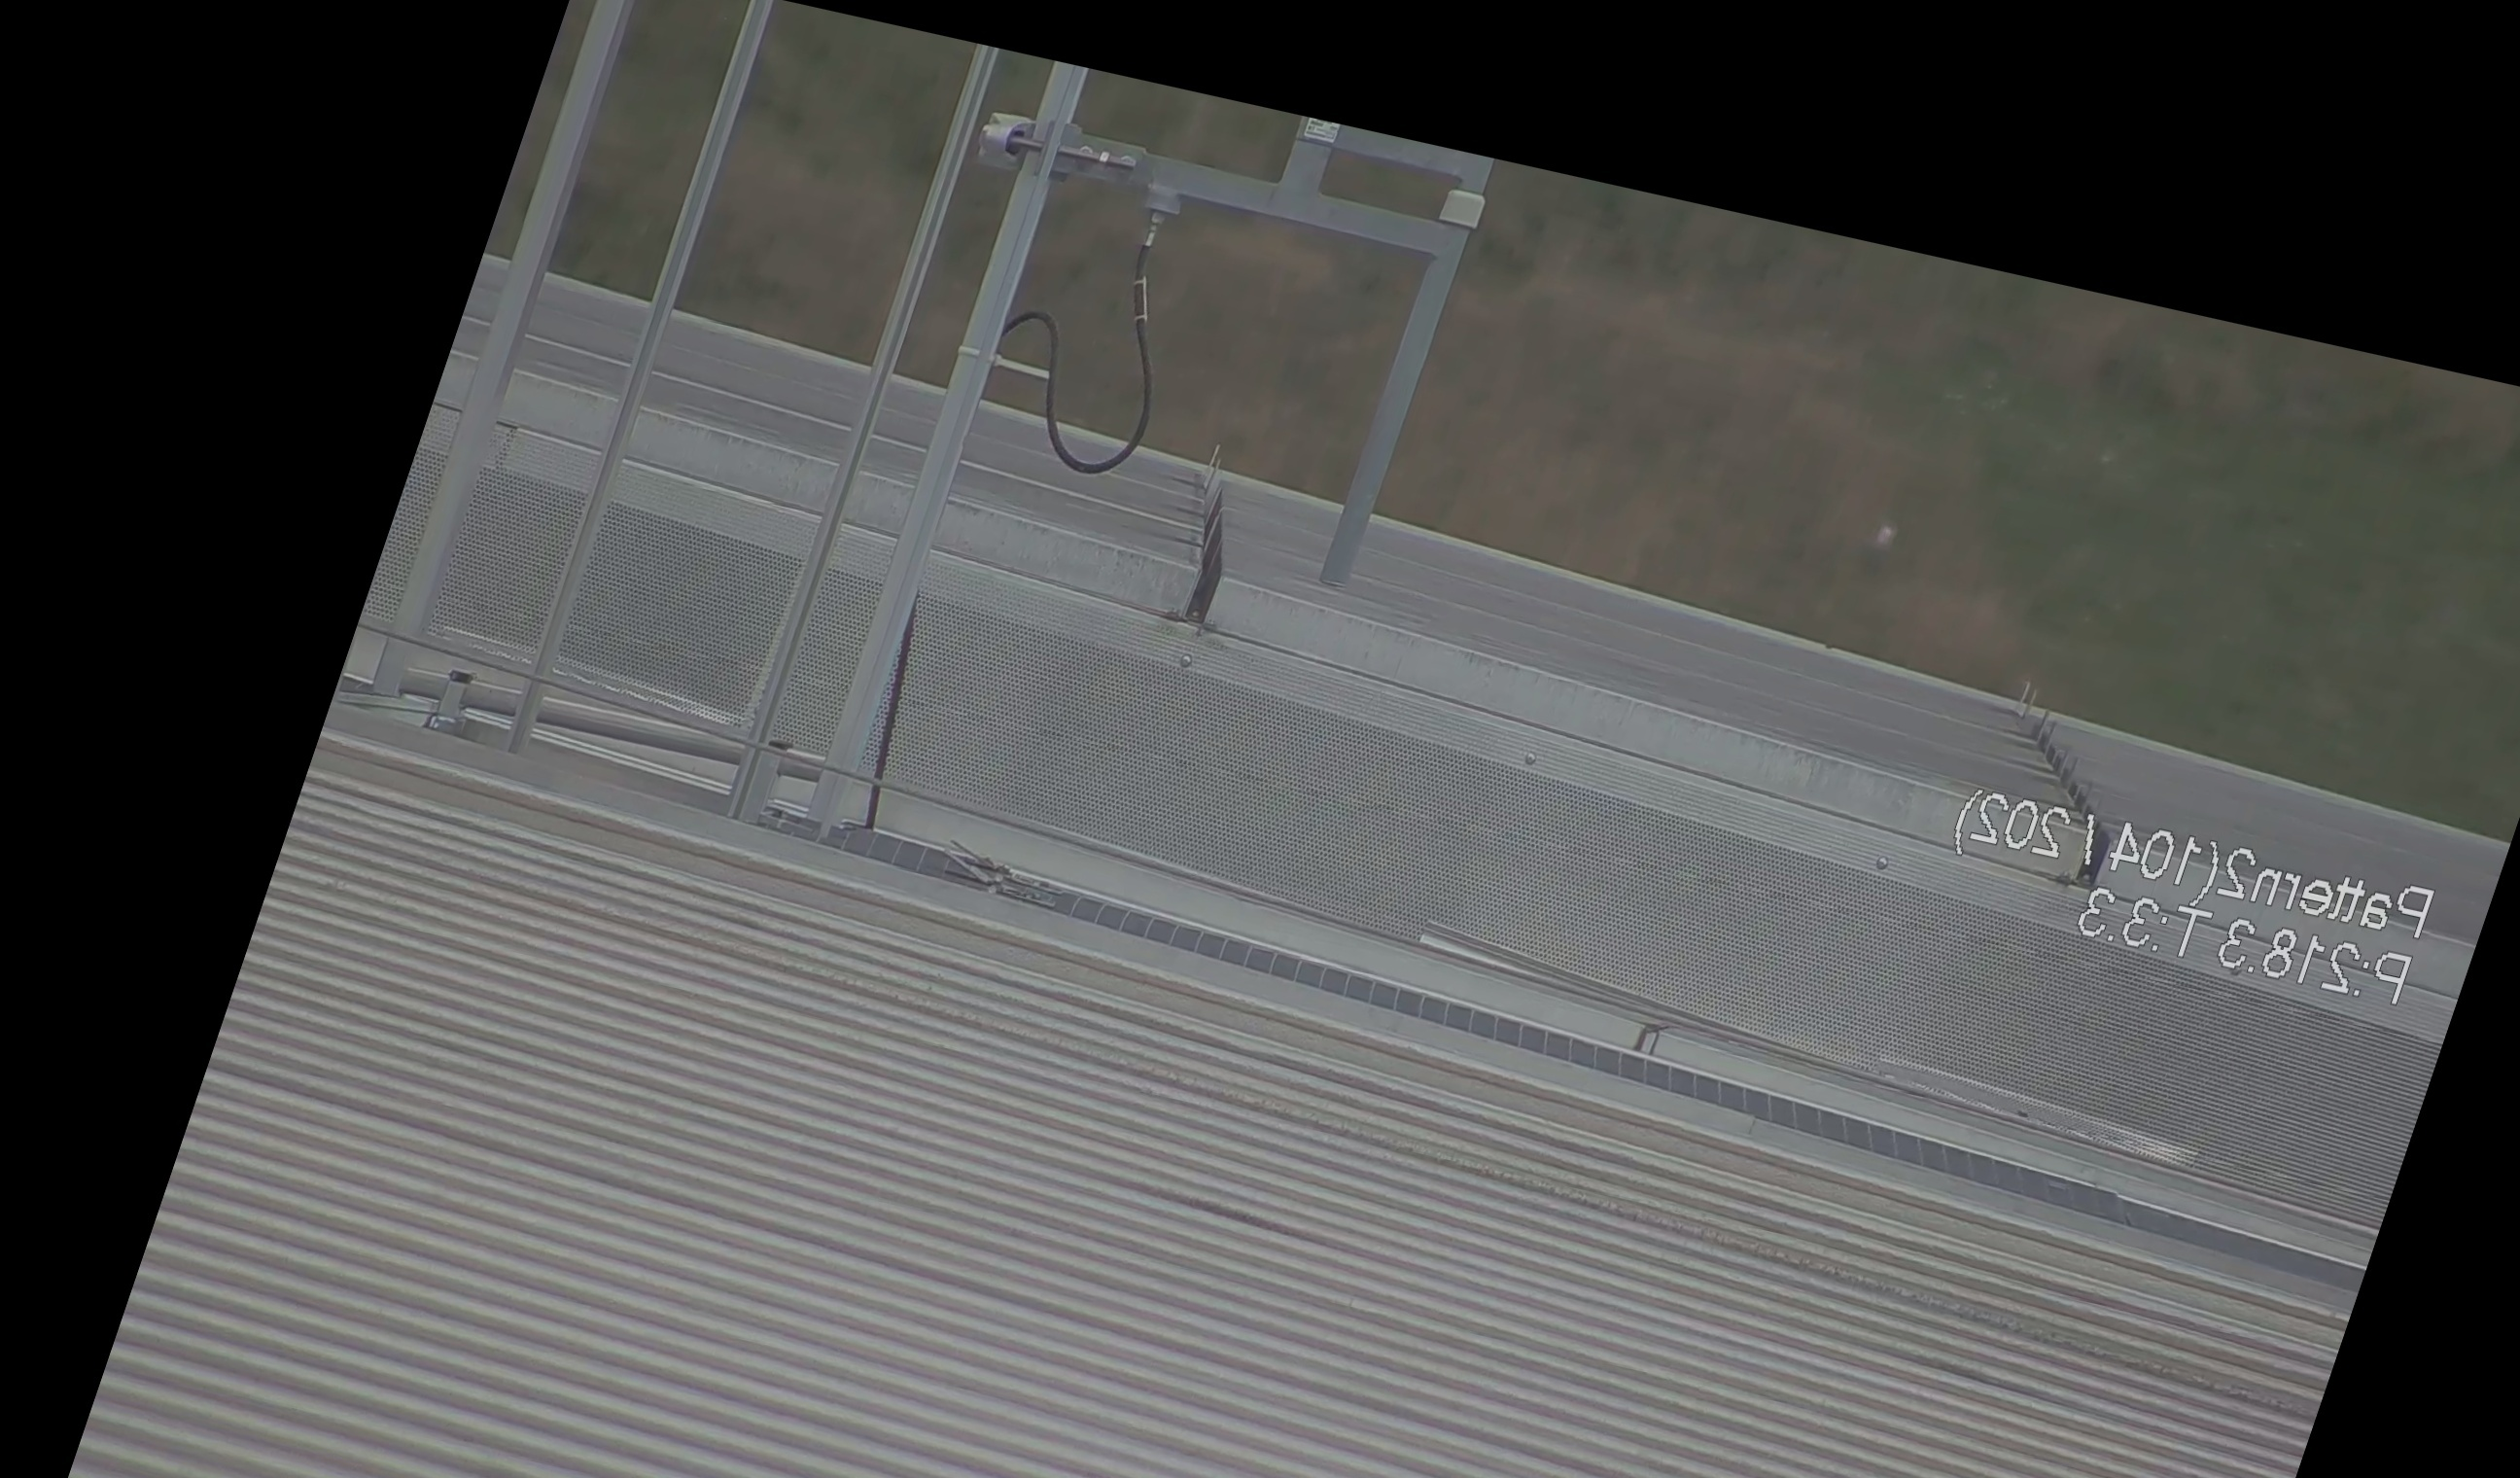Other: (262, 194, 403, 382)
